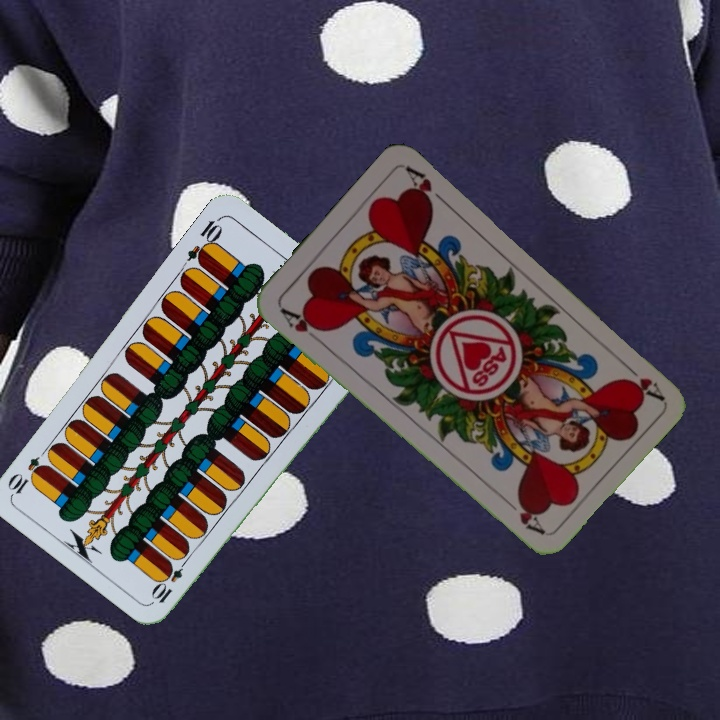E10: (183, 213, 226, 268), (149, 552, 192, 606)
HA: (617, 357, 666, 403), (275, 303, 327, 346)
